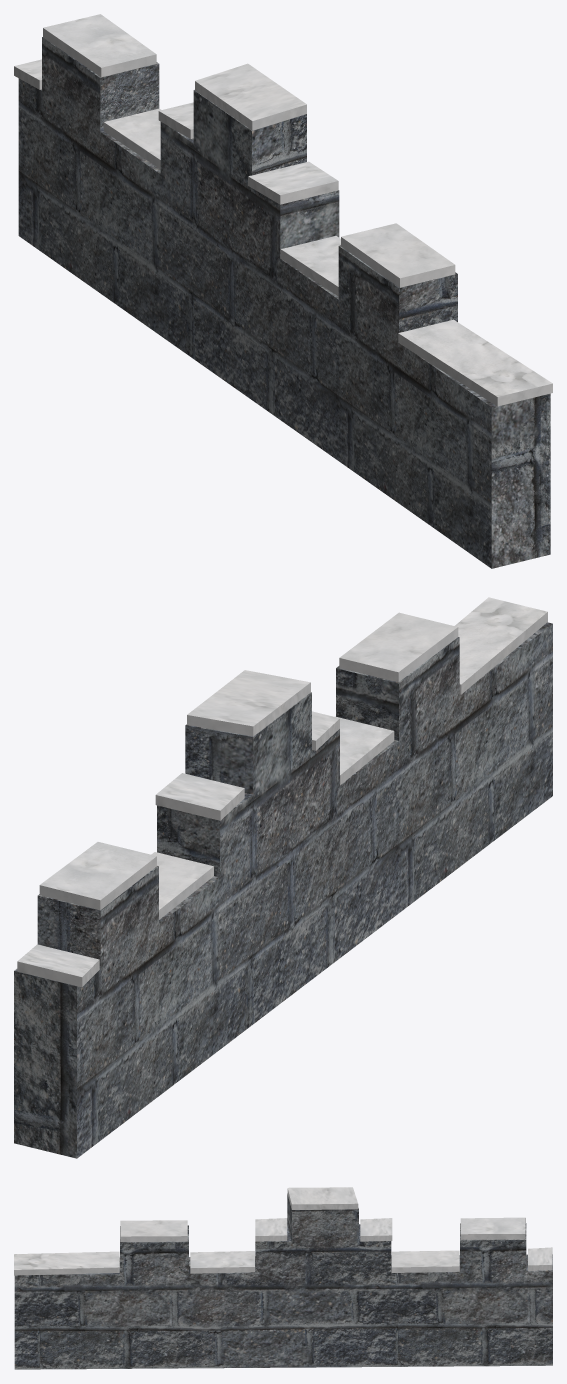
The model's file is StoneWallA_BSnowLOD.fbx.
3 renders of one model, top to bottom at view 1: azimuth 30°, elevation 25°; view 2: azimuth 150°, elevation 25°; view 3: azimuth 270°, elevation 25°, orthographic. The views are drawn at different scales.
Visible parts, largest first — view 1: StoneWallBSnow_LOD; view 2: StoneWallBSnow_LOD; view 3: StoneWallBSnow_LOD.
Boxes of the visible parts, <box> form: StoneWallBSnow_LOD: <box>14,14,552,568</box>; StoneWallBSnow_LOD: <box>14,597,552,1158</box>; StoneWallBSnow_LOD: <box>14,1187,552,1369</box>.
Size of the model in its own units: 58.47 by 197 by 589.
